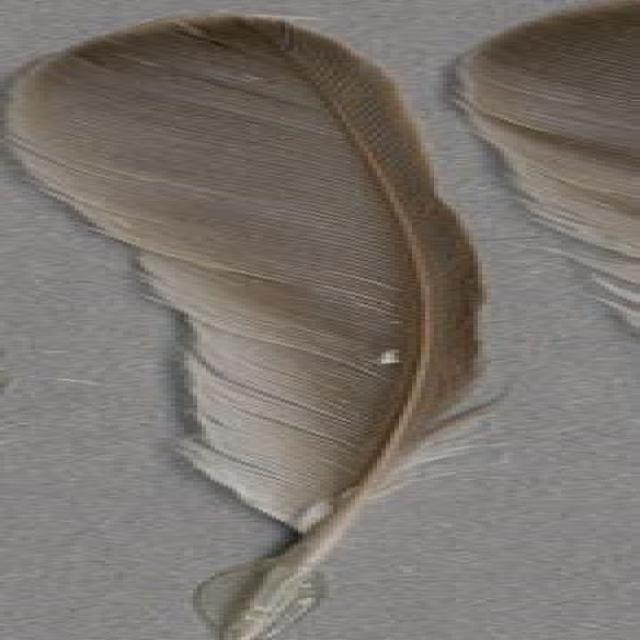feather: (0, 8, 579, 640)
